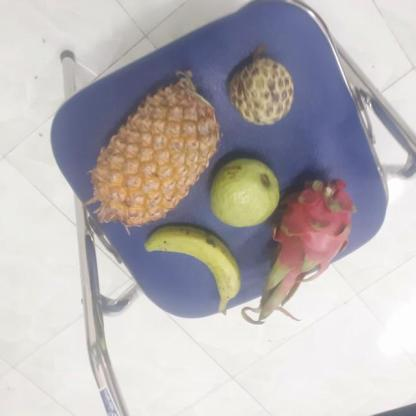annona: (223, 58, 294, 125)
banana: (140, 224, 238, 314)
pear: (208, 154, 280, 228)
pineapple: (86, 81, 217, 222)
pitaya: (260, 178, 354, 292)
